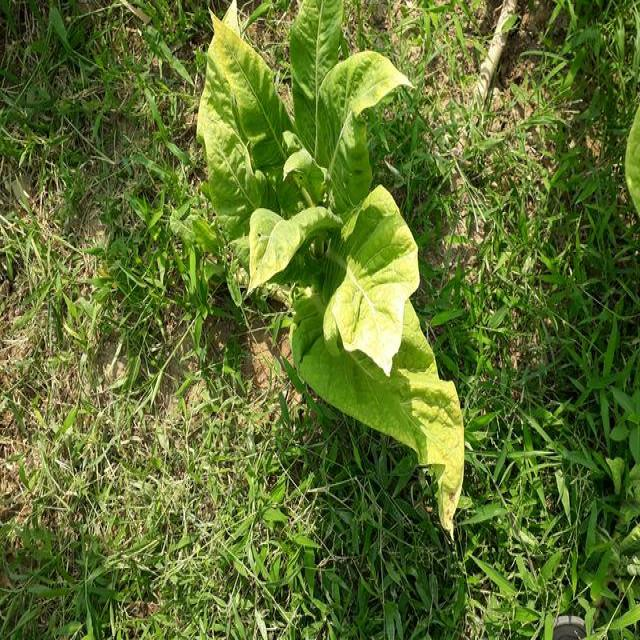crop: (192, 2, 466, 550)
